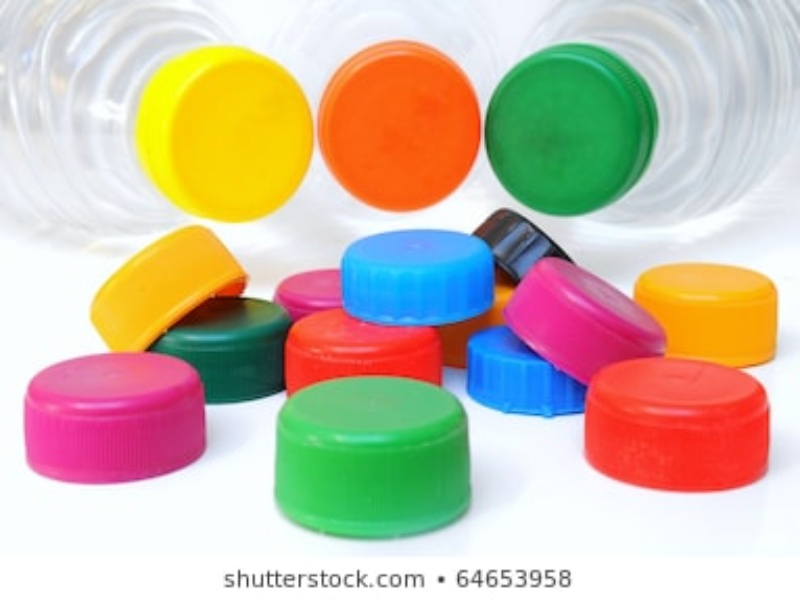bottle-cap: (128, 43, 318, 221), (273, 375, 476, 541), (481, 39, 662, 219), (315, 36, 486, 220), (21, 351, 208, 484), (585, 356, 770, 490), (504, 259, 665, 384), (88, 228, 248, 346), (151, 296, 295, 401), (343, 228, 498, 325), (637, 262, 780, 365), (278, 309, 447, 391), (466, 330, 589, 417), (467, 209, 582, 279), (276, 271, 358, 312)
plastic-bottle: (1, 3, 312, 234), (498, 2, 796, 232)
